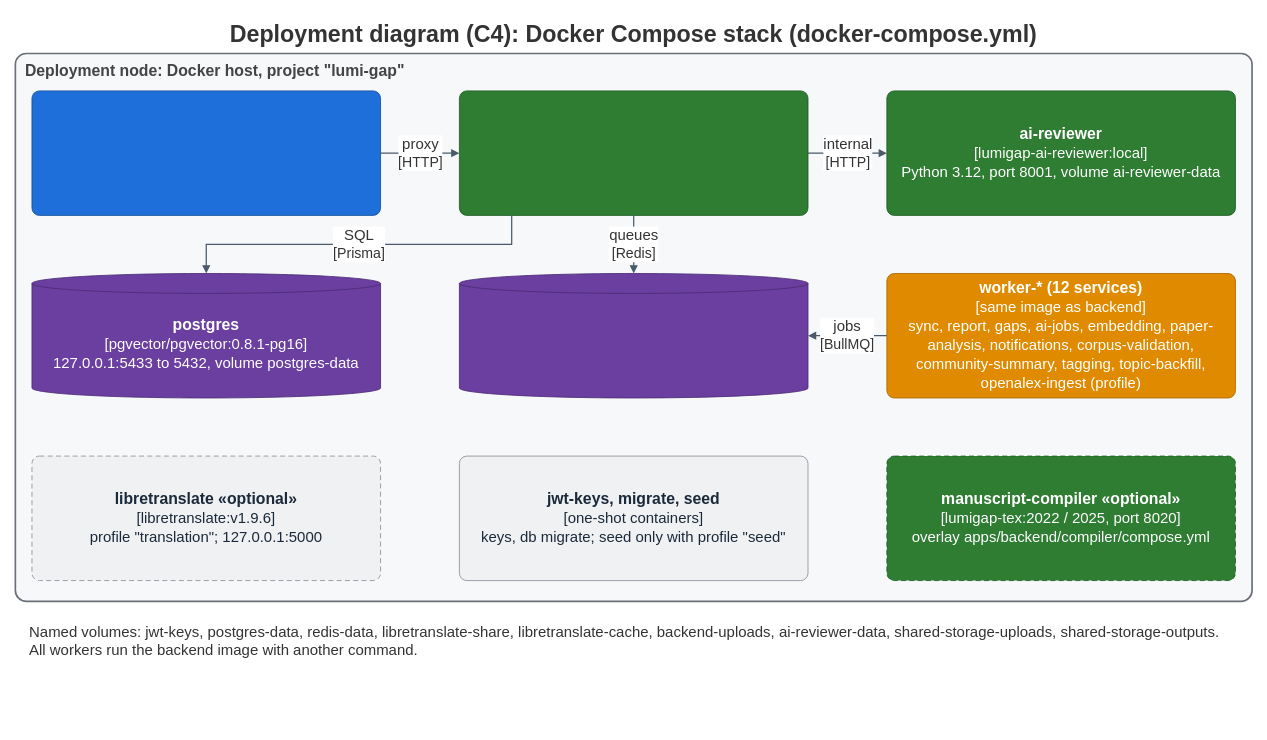
Some shapes in this 1267 by 740 pixel diagram are drawn without their labels. Here are the shapes that lost their labels. From the top down, the centre of each, then its label:
point 206,152: web [nginx:1.27-alpine] host 8080 to 80; proxies /api/v1 to backend:4000
point 633,152: backend [lumigap-backend:local] Node 22, port 4000; healthcheck /health
point 633,335: redis [redis:7-alpine] 127.0.0.1:6379, AOF, volume redis-data
